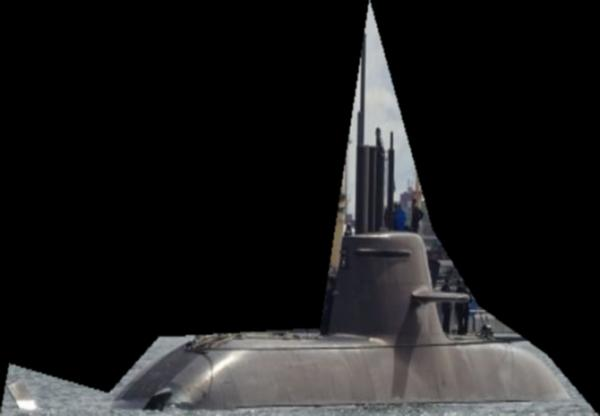Submarine: (0, 0, 599, 416)
